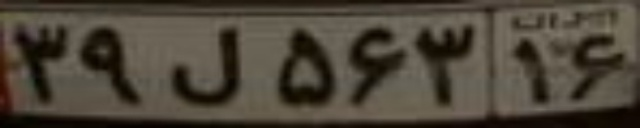1: (514, 38, 547, 103)
3: (415, 24, 484, 107), (13, 23, 70, 103)
5: (274, 28, 337, 106)
6: (347, 28, 405, 106), (568, 34, 626, 101)
9: (78, 26, 138, 103)
lam: (168, 25, 243, 105)
